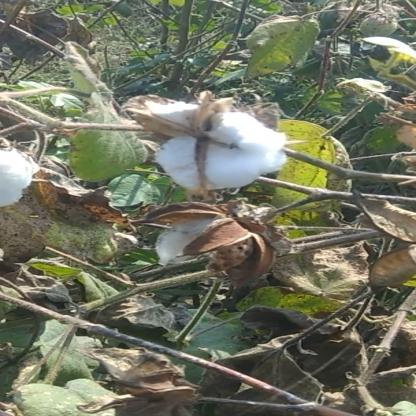cotton_ready: (128, 96, 308, 202)
